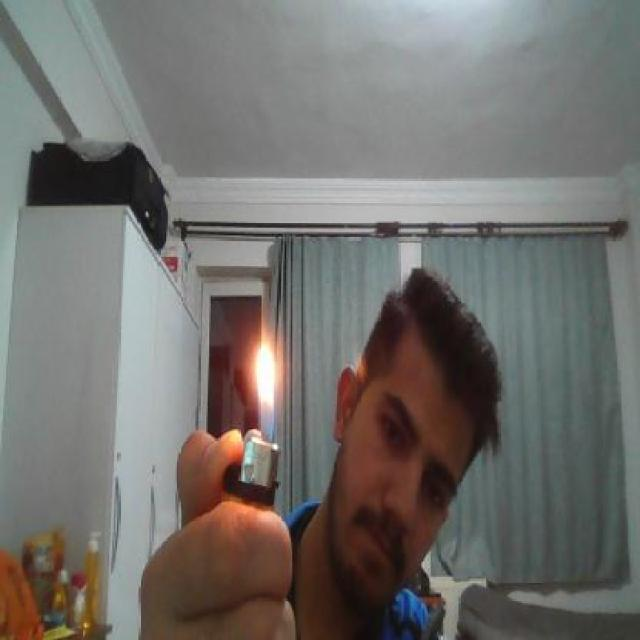Fire: (248, 315, 290, 442)
